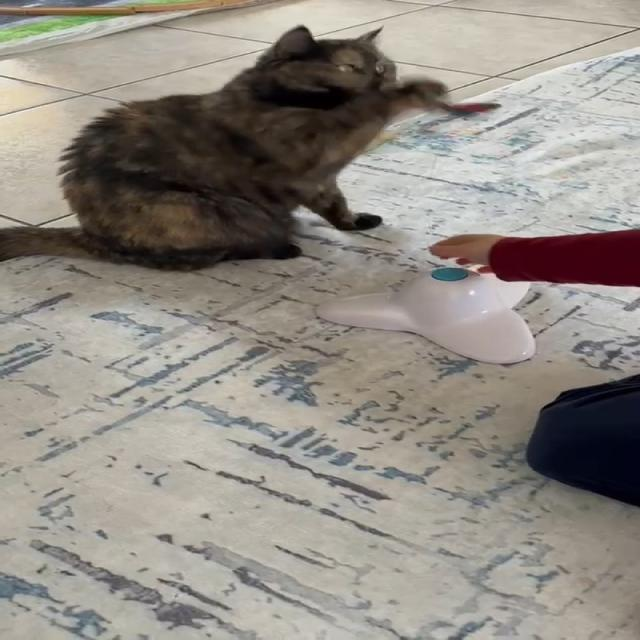authorized: (0, 23, 500, 272)
